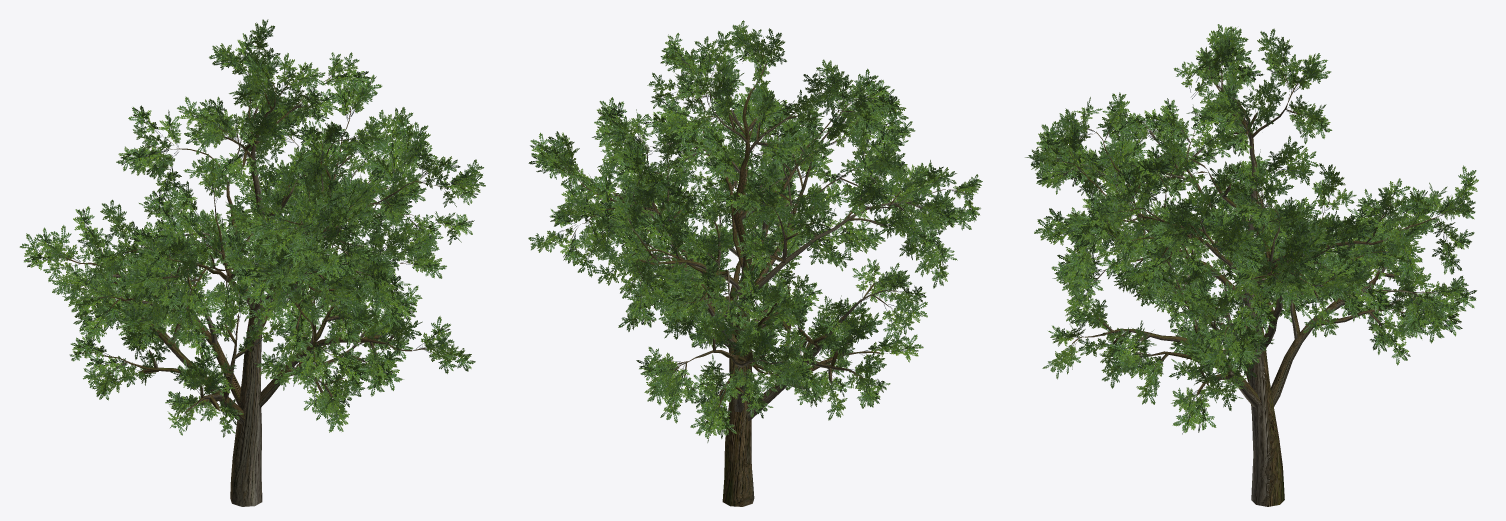
File: tree (1).glb
3 renders of one model, left to right at view 1: azimuth 30°, elevation 25°; view 2: azimuth 150°, elevation 25°; view 3: azimuth 270°, elevation 25°, orthographic. The views are drawn at different scales.
Parts seen in each view (by area): view 1: Tree; view 2: Tree; view 3: Tree.
Boxes of the visible parts, x1,y1,x2,y2 form: Tree: [19, 19, 485, 506]; Tree: [528, 20, 982, 506]; Tree: [1025, 24, 1478, 506].
Bounding box in the file's own units: 79.2 × 96.01 × 85.15.
Materials: 2 (2 with a texture image).
